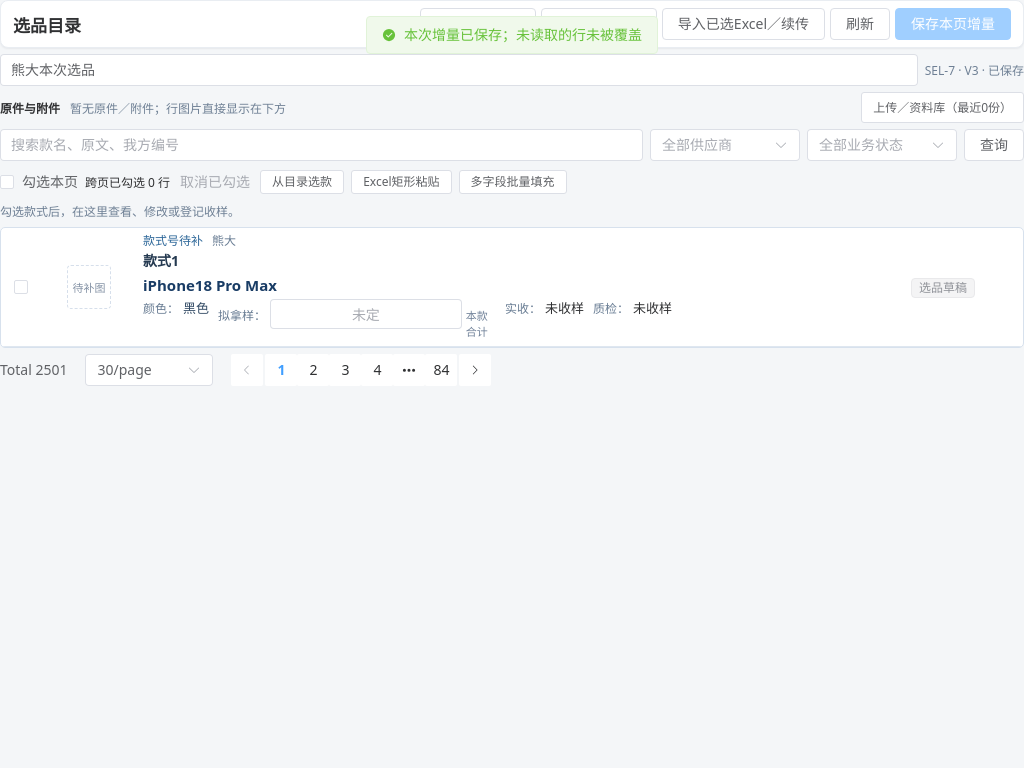
Test: server-paged selection workbench › limits rectangular pasting to existing editable rows and never offers appending an unbound candidate
This screenshot has width=1024, height=768.
Click the button "Excel矩形粘贴" at (401, 182), box [351,170,452,194]
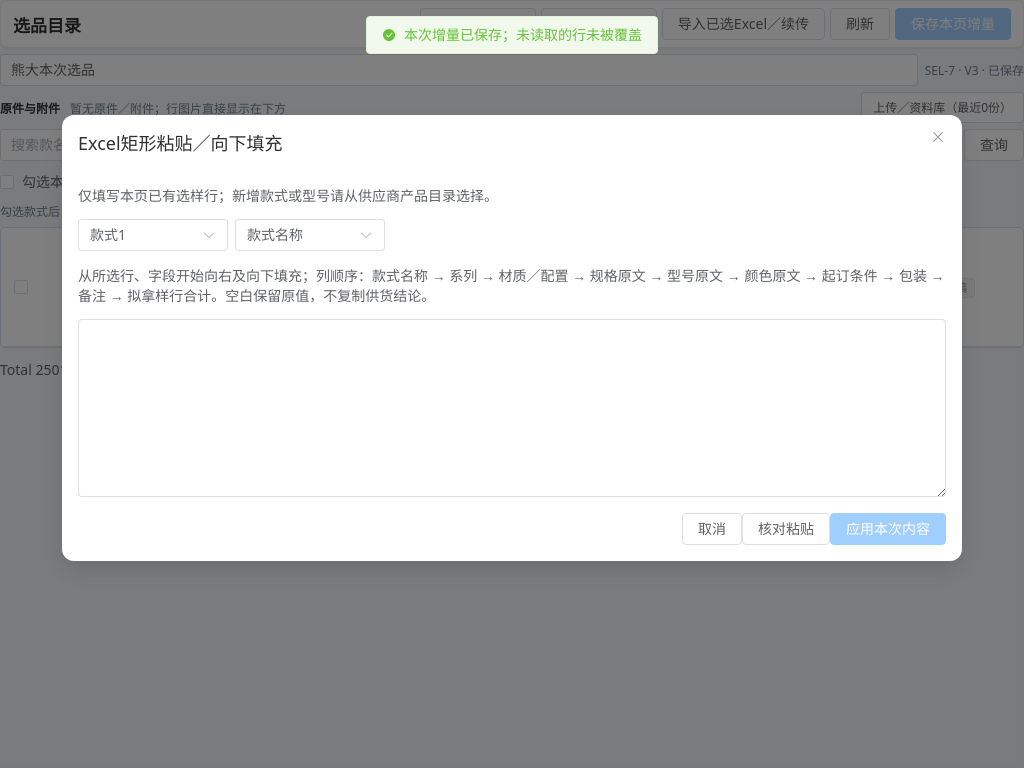
Expected: the text "仅填写本页已有选样行" is shown, [78,186,498,205]
